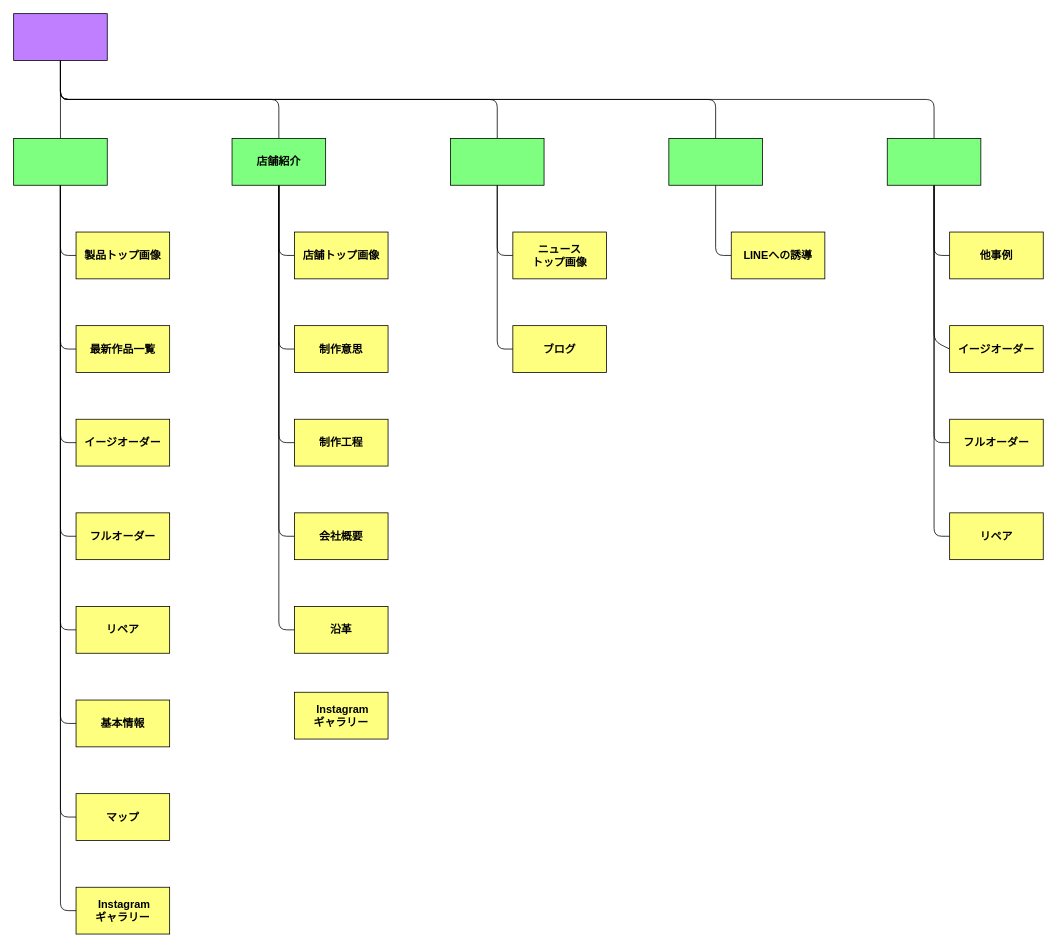
Image size: 1057x948. Some labels were removed from this diagram. The centre of each missing label's shape, as x and y in pixels:
"コンタクト" goes at (715,161).
"ニュース" goes at (497,161).
"プロダクト" goes at (933,161).
"ページルート" goes at (60,36).
"ホーム" goes at (60,161).
